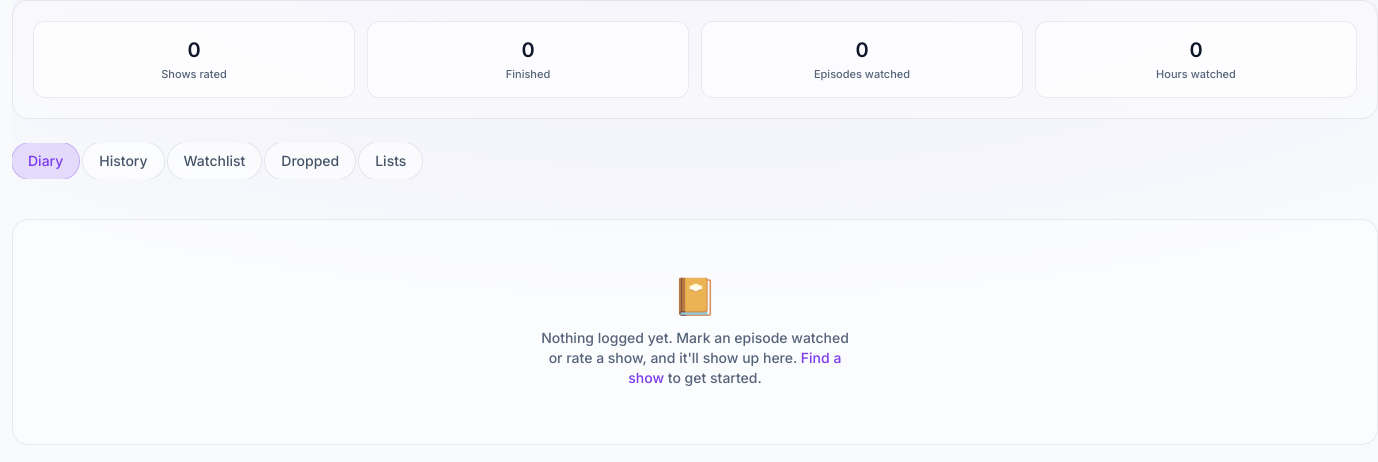
ProfileActivity › switches to the Lists tab and creates a new list
Click the button "Lists": (391, 160) [359,142,422,178]
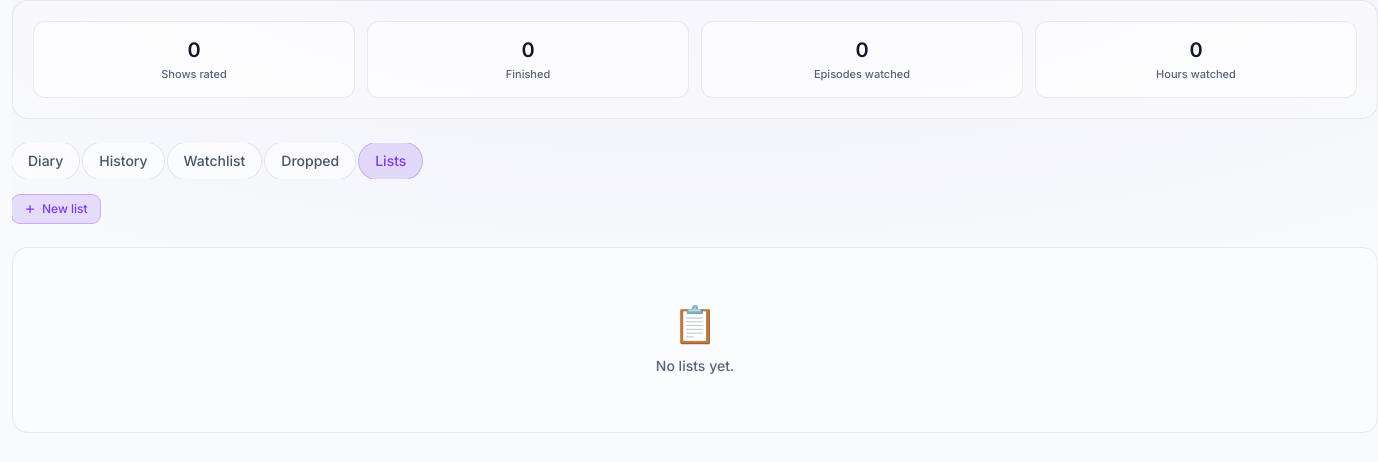
Click the button "New list": (56, 208) [12,194,100,222]
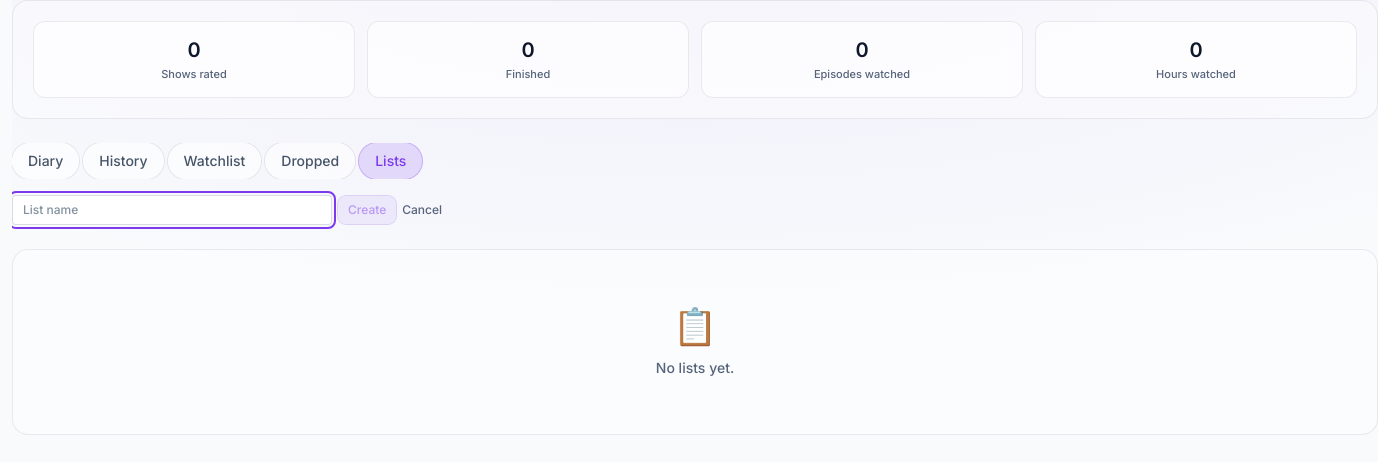
In the field with placeholder "List name": (172, 210) [12,194,332,224], type "New List"
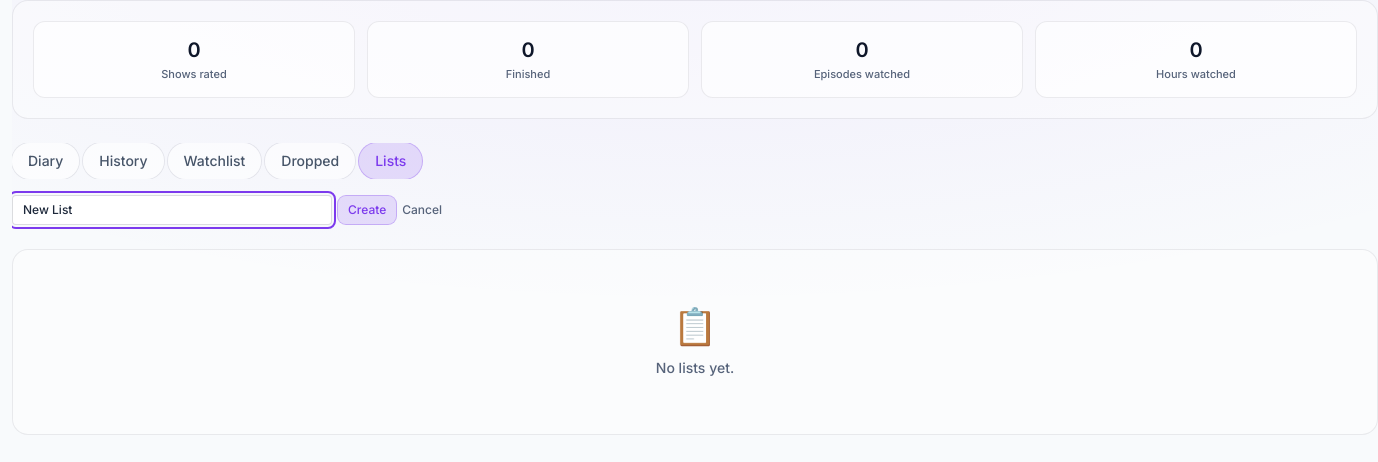
Click the button "Create": (367, 210) [338,196,396,224]
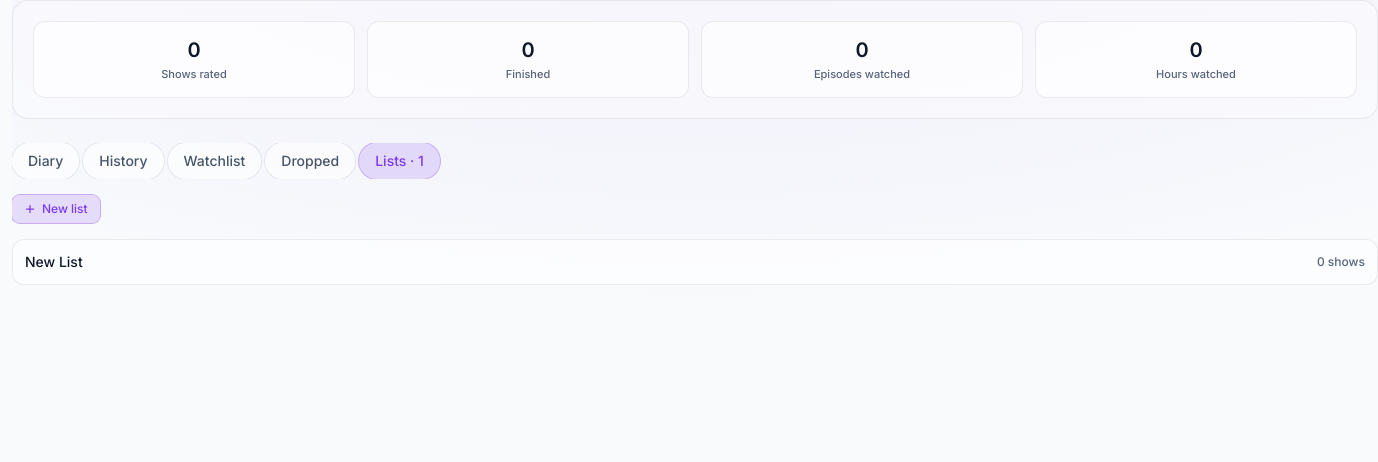
Now the text "New List" is shown, box [25,252,83,272]
